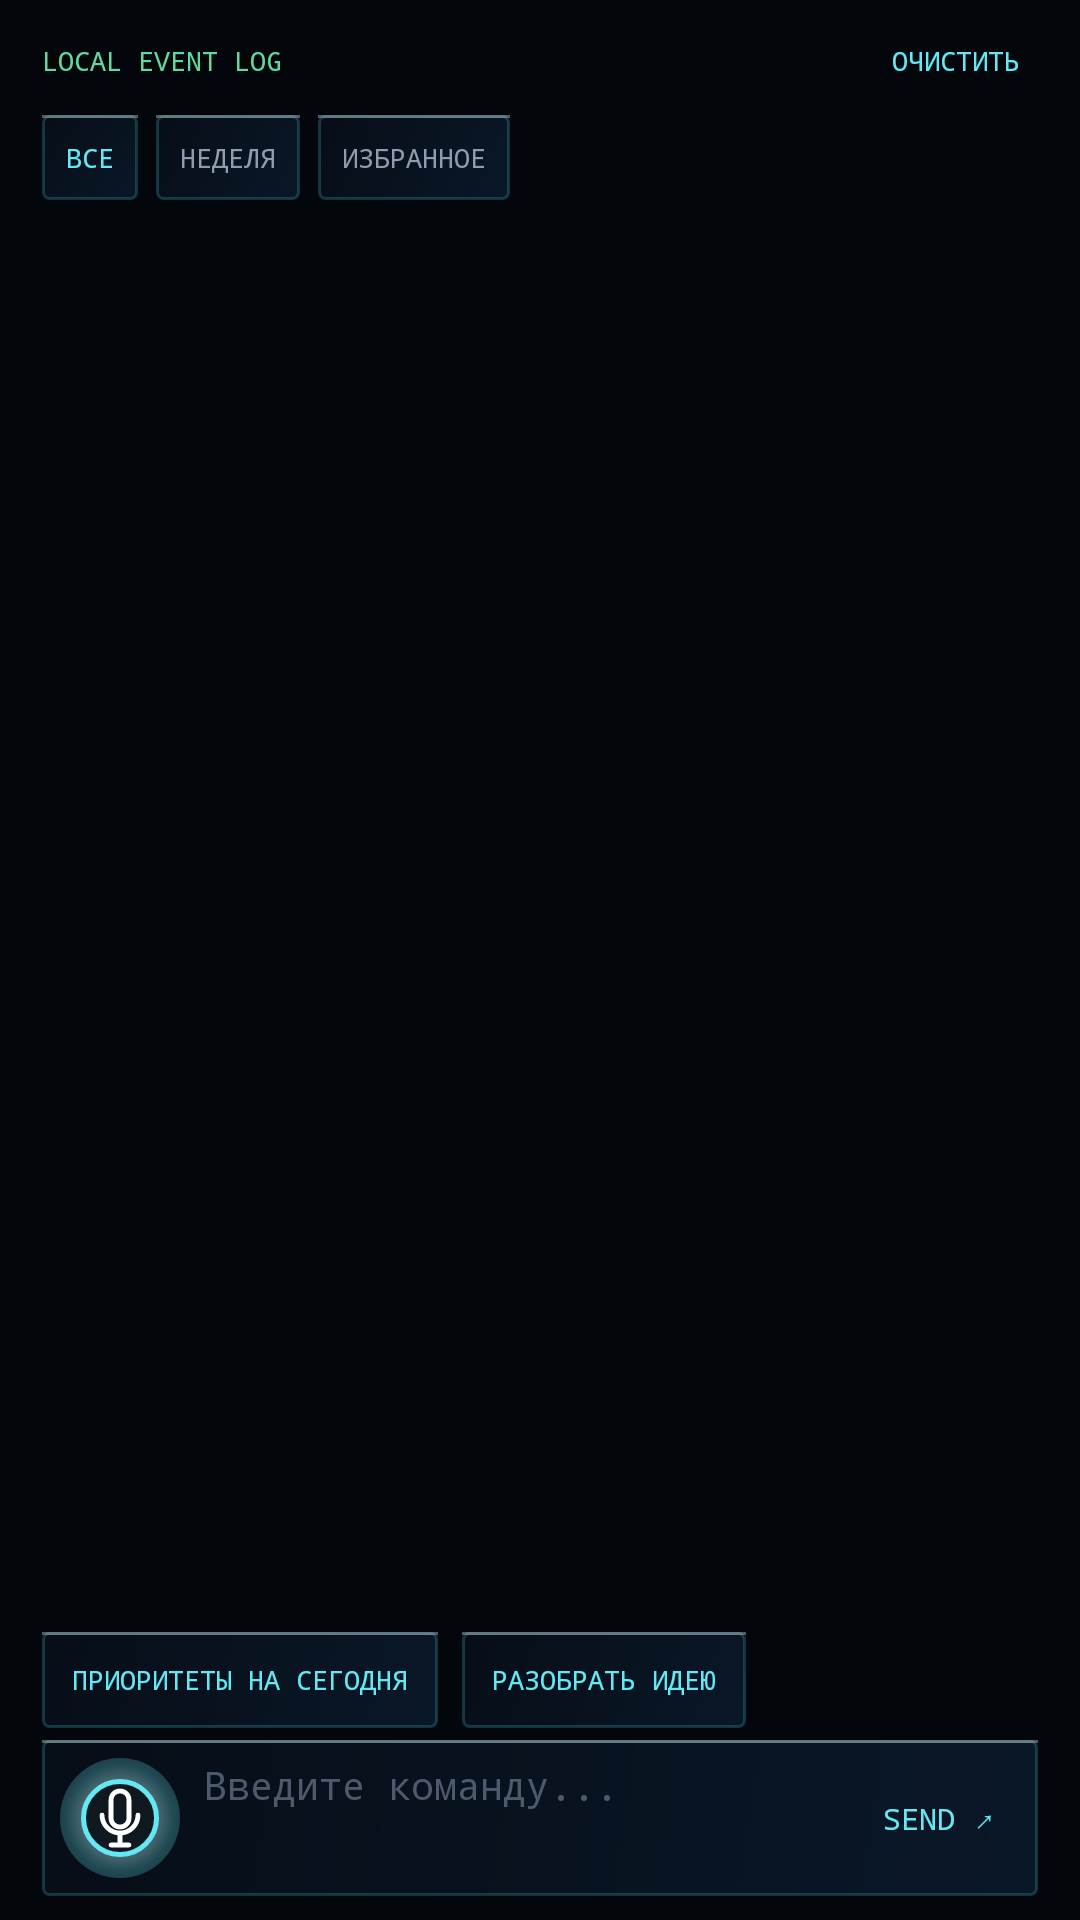

Screen size 1080 × 1920. Icon name, then its center in pixels as (x=x, y=y):
Голос: (x=120, y=1818)
